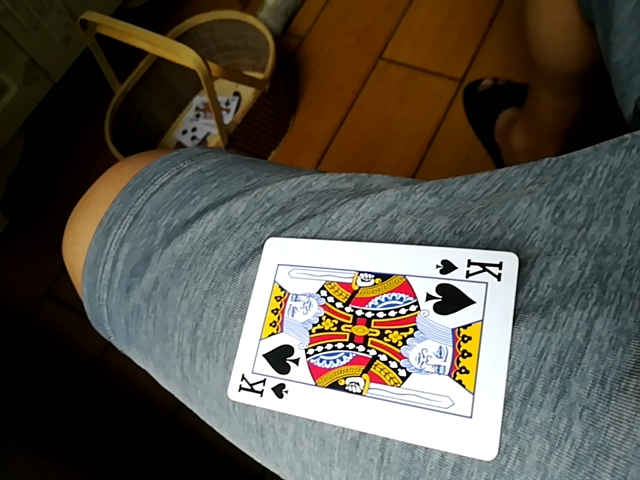ht k: (224, 234, 520, 462)
